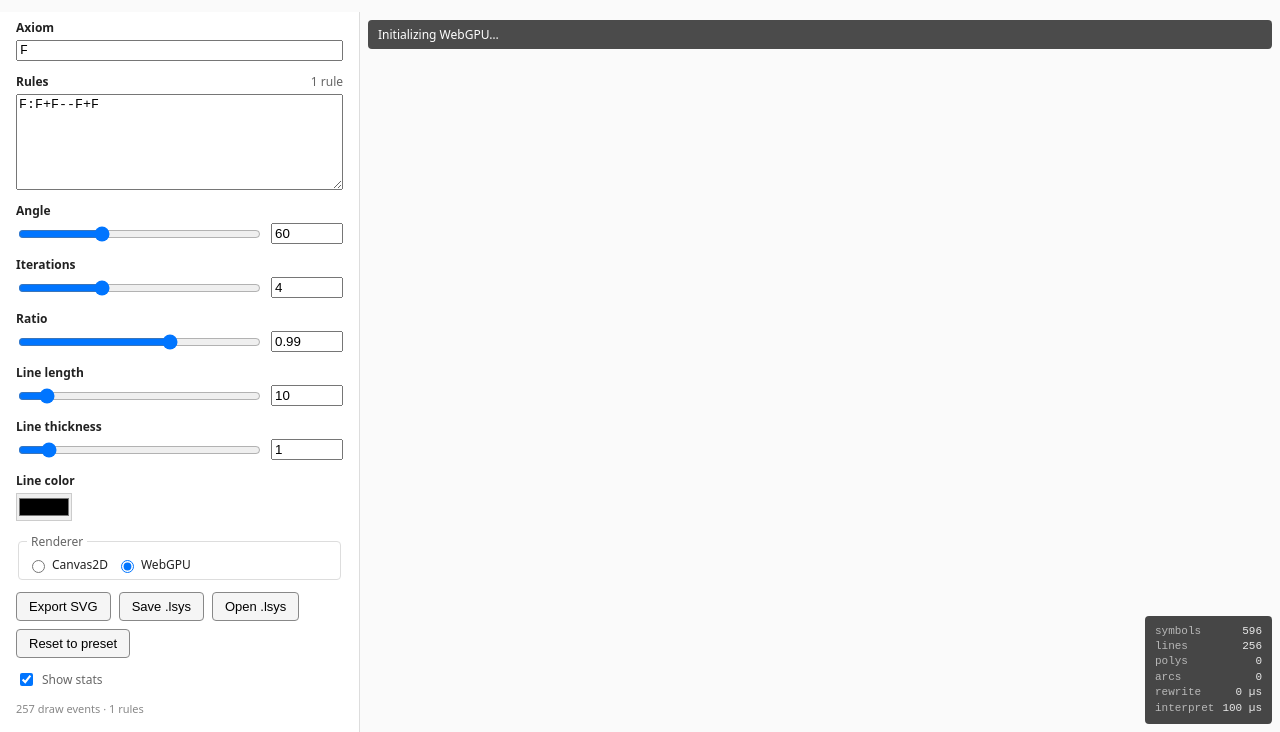
Scenario: App › stats HUD is visible by default and toggles off via the checkbox
This screenshot has width=1280, height=732.
(page scrolled)
Expected: the element with test id "stats-hud" is shown, [1145, 616, 1272, 724]
Click the checkbox labelled "Show stats".
click(26, 680)  # box [20, 673, 33, 686]
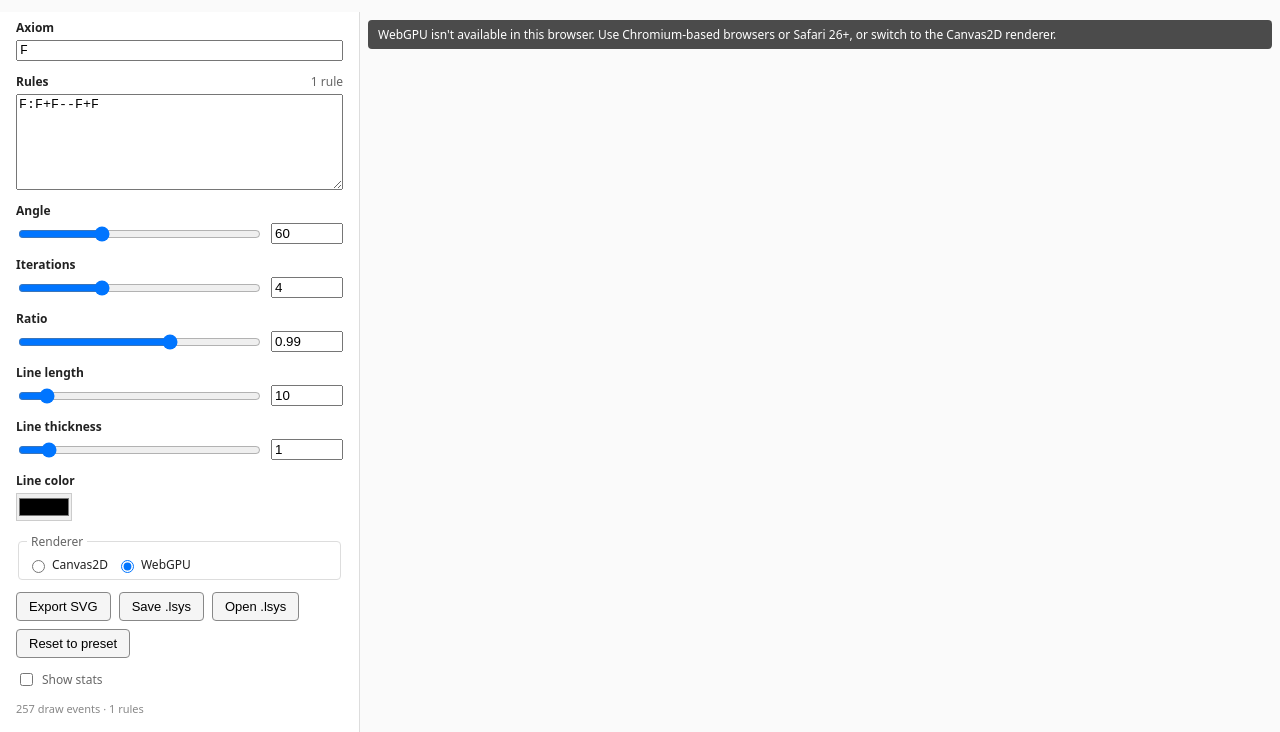
Expected: the element with test id "stats-hud" is gone
